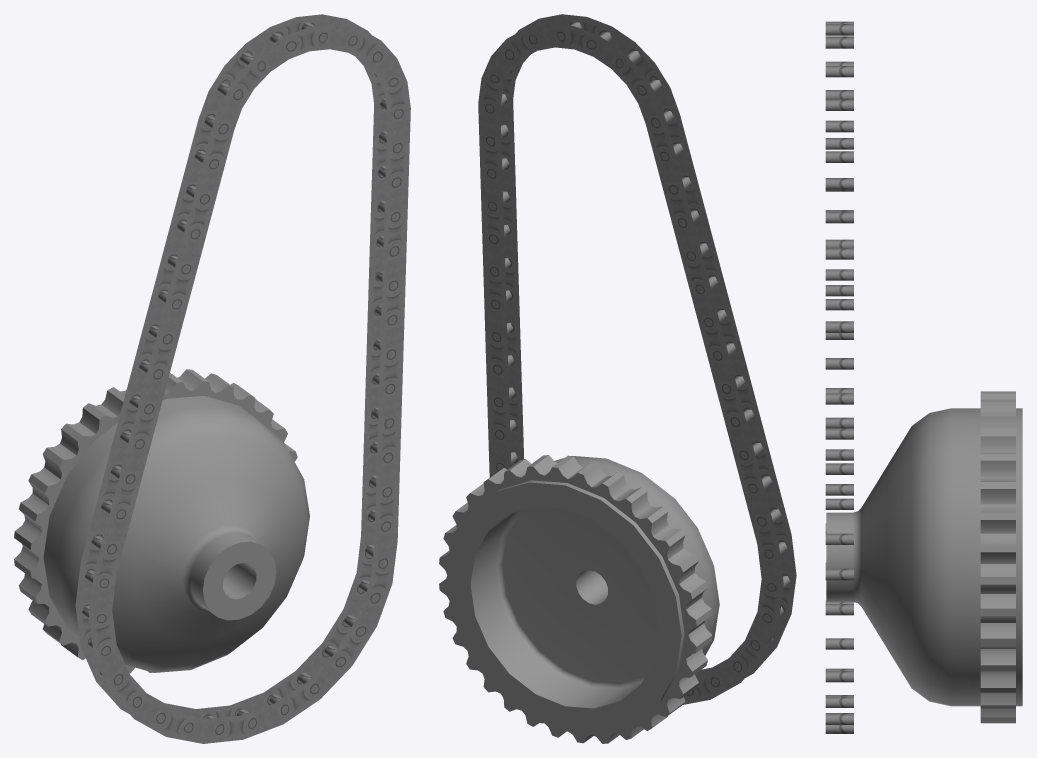
Rendered from chainNCover.glb.
3 renders of one model, left to right at view 1: azimuth 30°, elevation 25°; view 2: azimuth 150°, elevation 25°; view 3: azimuth 270°, elevation 25°, orthographic. The views are drawn at different scales.
Visible parts, largest first — view 1: rot_new_lancuch(0), rot_new_element_nakladka(0); view 2: rot_new_element_nakladka(0), rot_new_lancuch(0); view 3: rot_new_element_nakladka(0), rot_new_lancuch(0).
Part boxes in pixels (x1,y1,x2,y2): rot_new_lancuch(0): (75,14,410,743); rot_new_element_nakladka(0): (14,369,309,673); rot_new_element_nakladka(0): (439,455,719,743); rot_new_lancuch(0): (478,14,796,704); rot_new_element_nakladka(0): (826,391,1022,723); rot_new_lancuch(0): (825,21,853,733).
Size of the model in its own units: 0.00167 by 0.00346 by 0.00084.
Materials: 2 (1 with a texture image).
